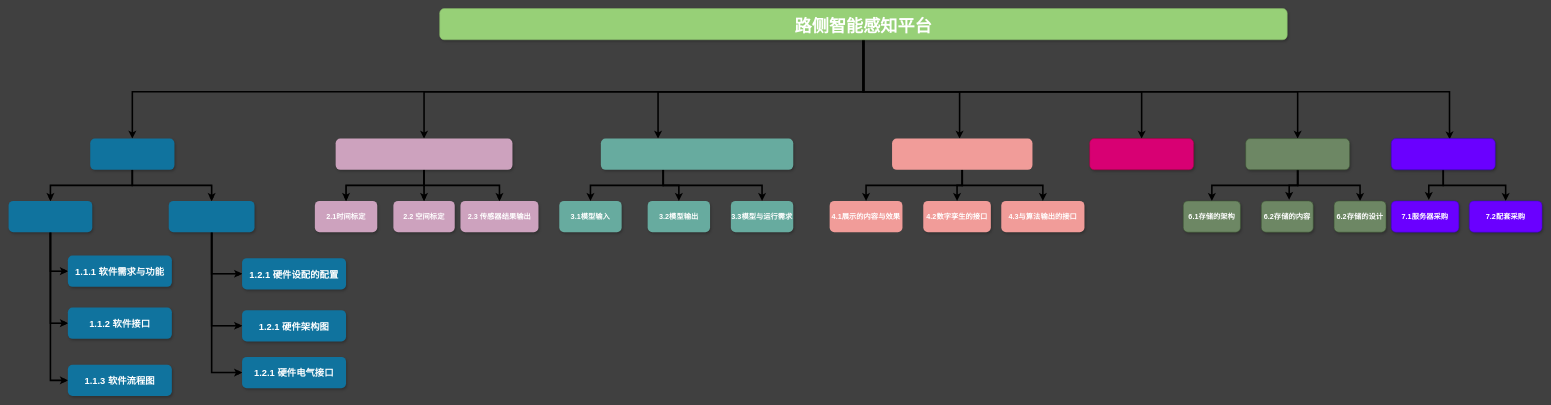
The diagram is 1551 pixels wide and 405 high, and some of its shapes have lost their labels. Here are the shapes that lost their labels. From the top down, the centre of each, then its label:
At pixel 132 154: "1、系统架构".
At pixel 424 154: "2、传感器标定 张露、任浩杰、李衡，柳海伊".
At pixel 697 154: "3、算法模型 王贝贝、李垚、祝含颀、石盼".
At pixel 962 154: "4、可视化展示 曹泓、祝含颀、彭钰茹".
At pixel 1142 154: "5、并行调度 黄庄湫、黄奕桐".
At pixel 1298 154: "6、数据存储 彭航、祝含颀".
At pixel 1443 154: "7、设备采购 许恩婷".
At pixel 50 217: "1.1软件架构 黄晶晶、祝含颀".
At pixel 211 217: "1.2硬件架构 彭航、任浩杰".
